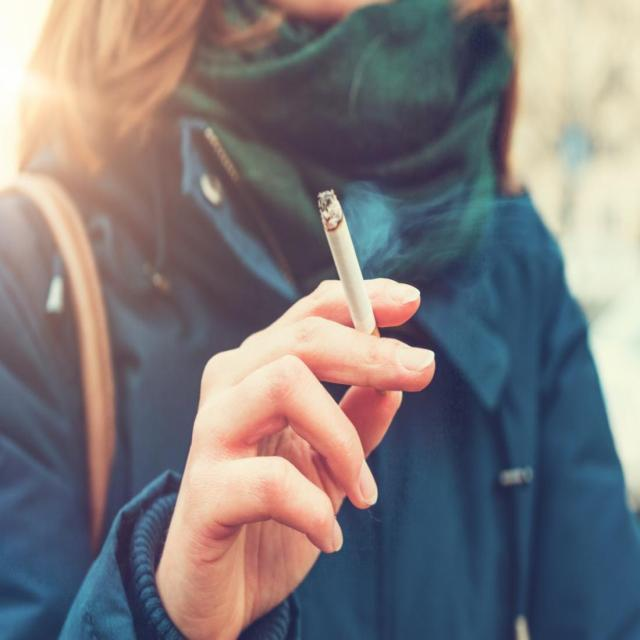cigarette: (316, 181, 388, 348)
